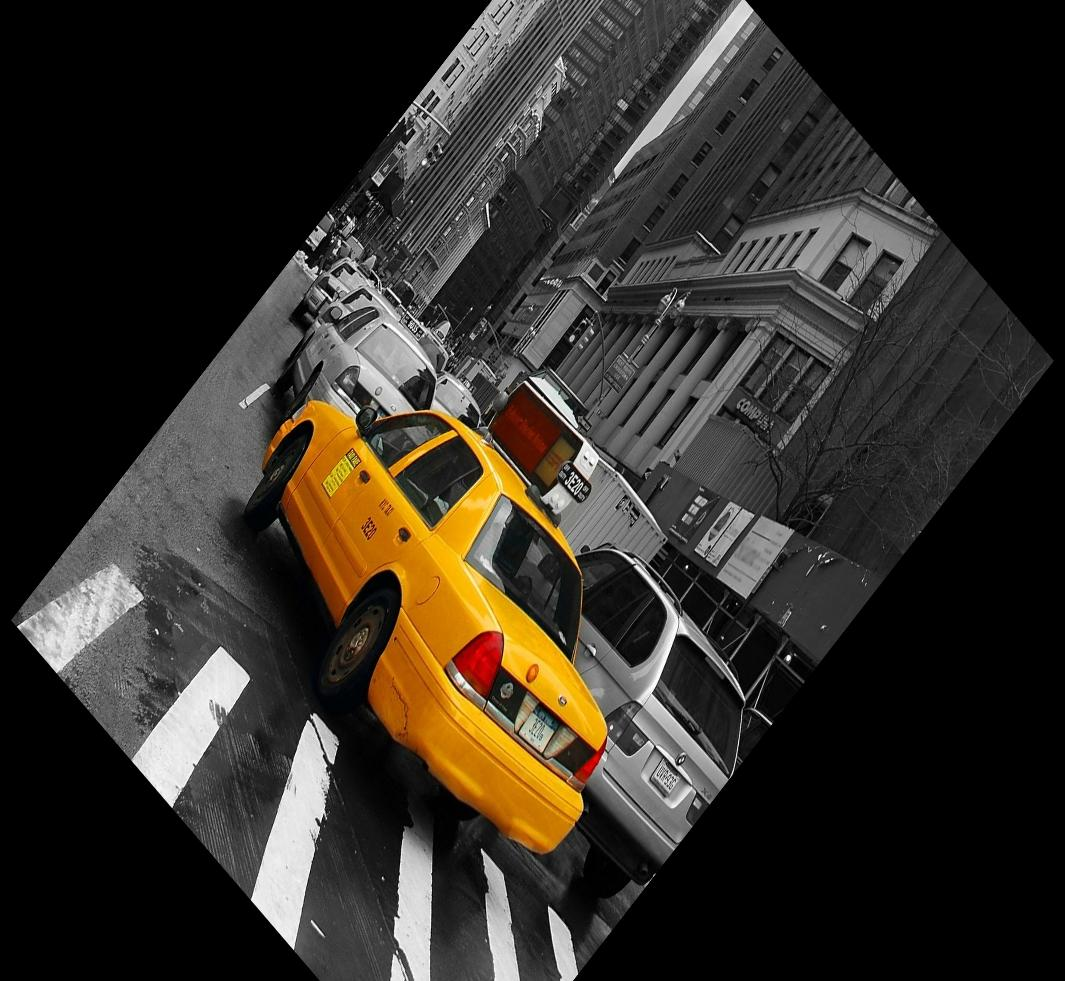taxi: (271, 376, 609, 889)
